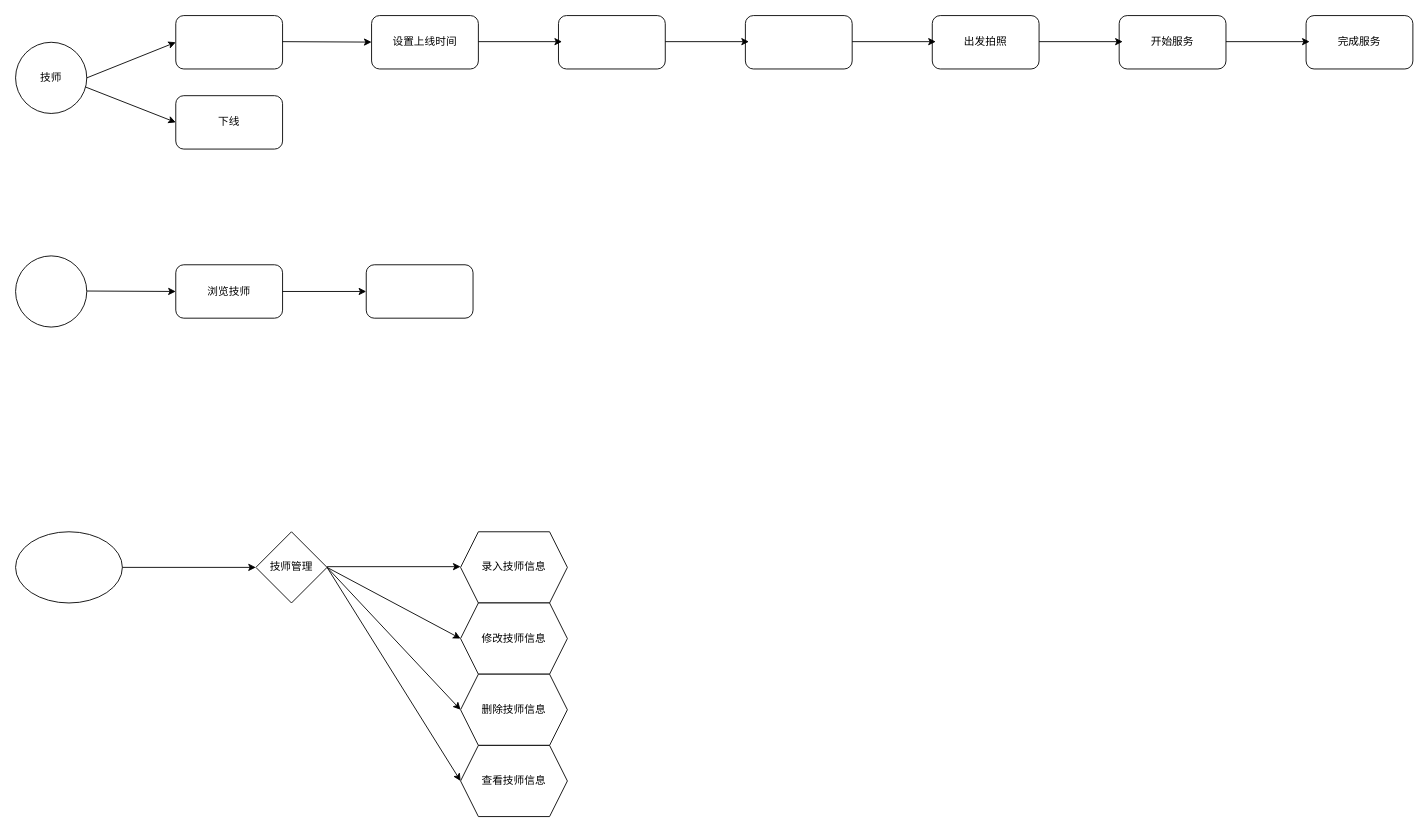
The diagram is 1428 pixels wide and 832 high, and some of its shapes have lost their labels. Each missing label, with the centre of its shape:
"pc端管理系统" goes at point 68,567.
"上线" goes at point 229,42.
"客户" goes at point 51,291.
"收到客户点单提醒" goes at point 611,42.
"查看路费" goes at point 798,42.
"选择技师" goes at point 419,291.
